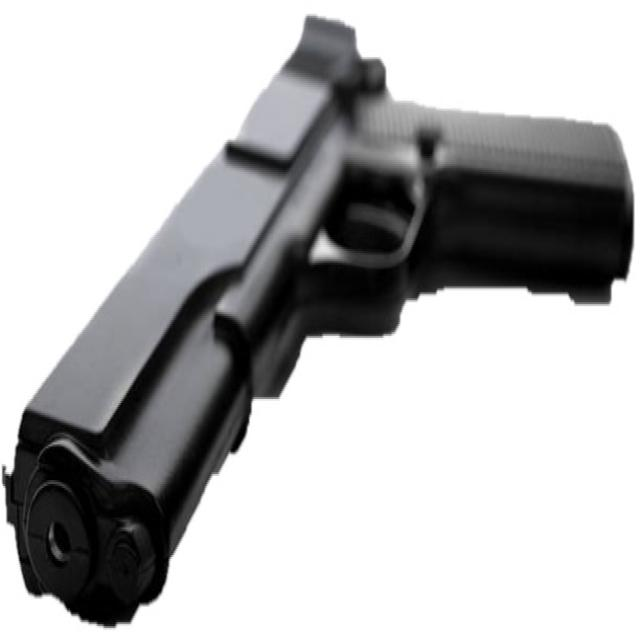pistol: (5, 1, 633, 640)
